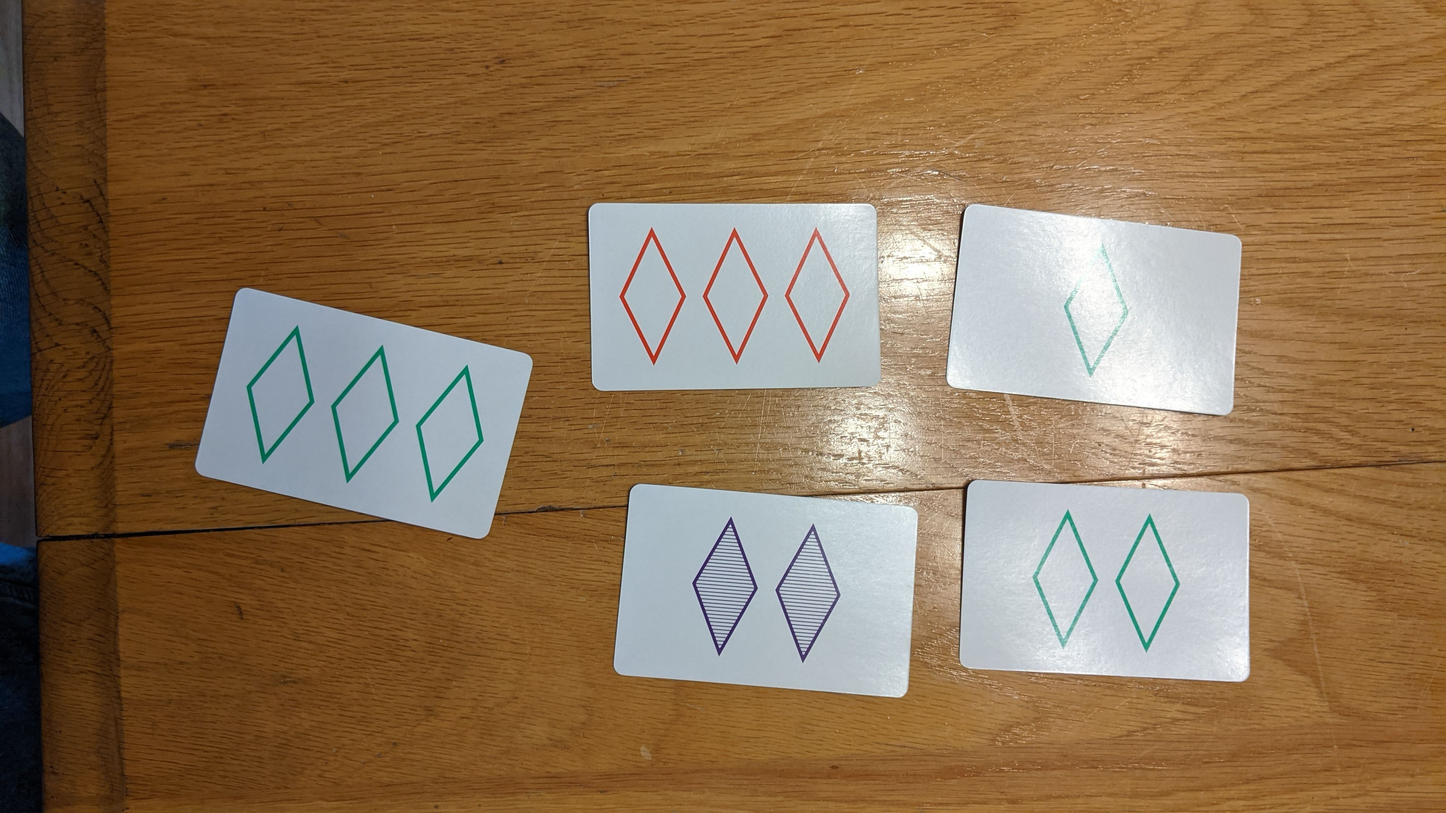card: (197, 286, 532, 538), (613, 483, 918, 698), (947, 203, 1242, 414), (958, 479, 1253, 683), (587, 202, 882, 390)
